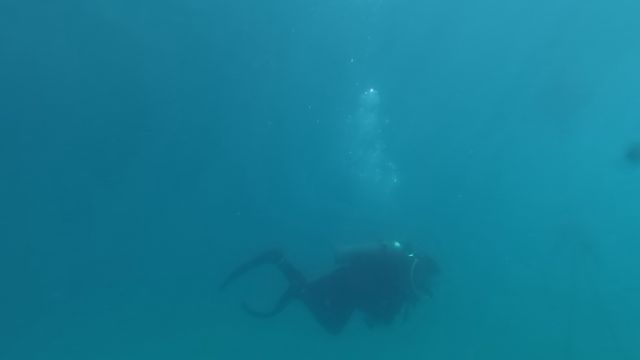Diver: (215, 232, 468, 342)
